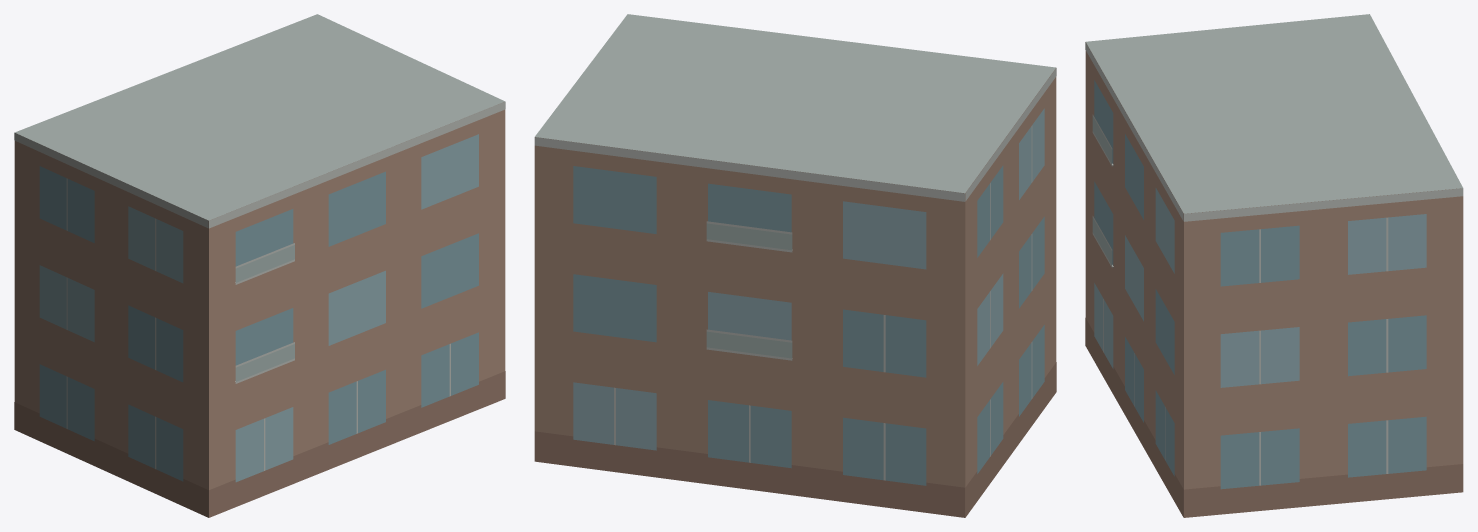
The model's file is survey-upis-32710142.glb.
3 views of the same model, side by side, from view 1: azimuth 30°, elevation 25°; view 2: azimuth 150°, elevation 25°; view 3: azimuth 270°, elevation 25° (orthographic). The views are drawn at different scales.
Visible parts, largest first — view 1: survey-upis-32710142.tmp; view 2: survey-upis-32710142.tmp; view 3: survey-upis-32710142.tmp.
Part boxes in pixels (x1,y1,x2,y2): survey-upis-32710142.tmp: [14, 14, 505, 517]; survey-upis-32710142.tmp: [534, 14, 1056, 517]; survey-upis-32710142.tmp: [1085, 14, 1463, 517].
Size of the model in its own units: 12.9 by 9.15 by 10.31.
